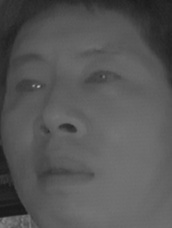eye: (80, 66, 122, 91), (11, 76, 49, 98)
mouth: (33, 152, 97, 188)
